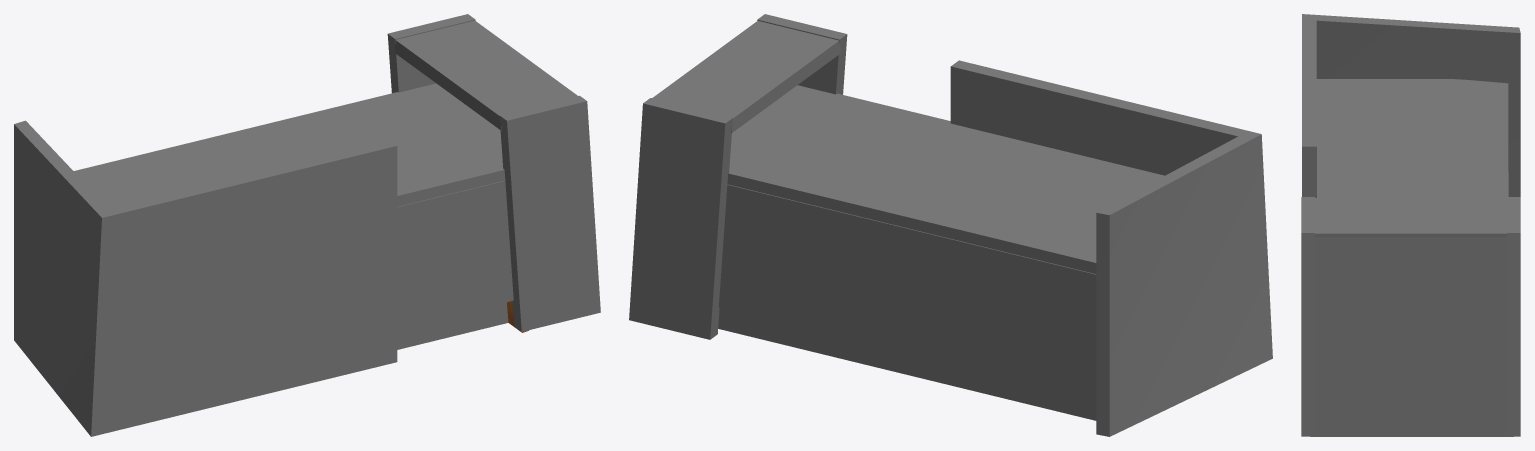
Rendered from reception.FBX.
3 renders of one model, left to right at view 1: azimuth 30°, elevation 25°; view 2: azimuth 150°, elevation 25°; view 3: azimuth 270°, elevation 25°, orthographic. The views are drawn at different scales.
Parts seen in each view (by area): view 1: Line01, Box05, Line02, Box02, Box01, Box04, Line03; view 2: Line01, Box02, Box05, Line03, Box01, Box04, Line02; view 3: Box03, Box05, Line01, Box01, Line03, Line02.
Boxes of the visible parts, x1,y1,x2,y2 form: Line01: (14, 120, 397, 436); Box05: (74, 83, 505, 208); Line02: (499, 95, 600, 331); Box02: (397, 180, 513, 328); Box01: (394, 20, 577, 130); Box04: (397, 302, 508, 349); Line03: (387, 14, 475, 93); Line01: (950, 60, 1272, 436); Box02: (719, 184, 1096, 399); Box05: (727, 85, 1164, 273); Line03: (629, 98, 732, 339); Box01: (652, 21, 840, 133); Box04: (718, 308, 1096, 420); Line02: (757, 14, 847, 94); Box03: (1310, 237, 1513, 436); Box05: (1316, 79, 1508, 197); Line01: (1302, 14, 1520, 197); Box01: (1315, 198, 1506, 237); Line03: (1507, 197, 1520, 436); Line02: (1301, 197, 1314, 436).
Bounding box in the file's own units: 1972 × 805 × 799.
